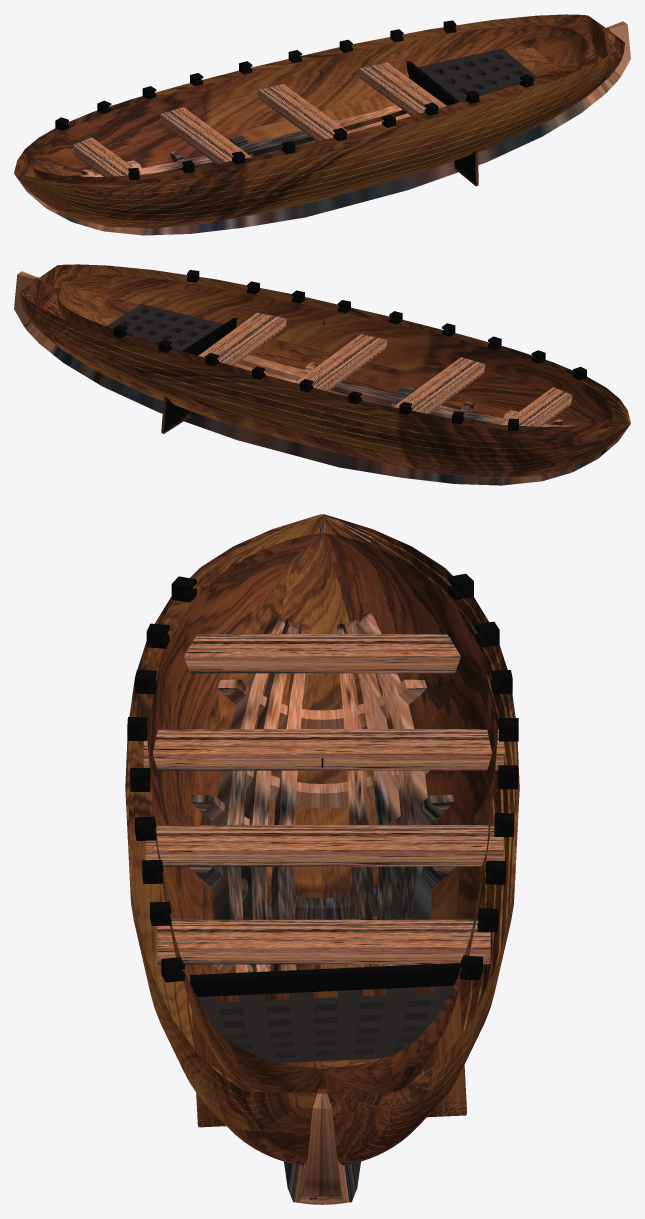
3 renders of one model, top to bottom at view 1: azimuth 30°, elevation 25°; view 2: azimuth 150°, elevation 25°; view 3: azimuth 270°, elevation 25°, orthographic. The views are drawn at different scales.
Parts seen in each view (by area): view 1: Cuerpo, Tablones; view 2: Cuerpo, Tablones; view 3: Cuerpo, Tablones.
Boxes of the visible parts, <box> form: Cuerpo: <box>14,14,630,235</box>; Tablones: <box>72,62,446,202</box>; Cuerpo: <box>14,264,630,485</box>; Tablones: <box>198,312,572,452</box>; Cuerpo: <box>125,514,519,1204</box>; Tablones: <box>143,634,504,964</box>.
Bounding box in the file's own units: 1889 × 393 × 526.
Materials: 9 (4 with a texture image).
